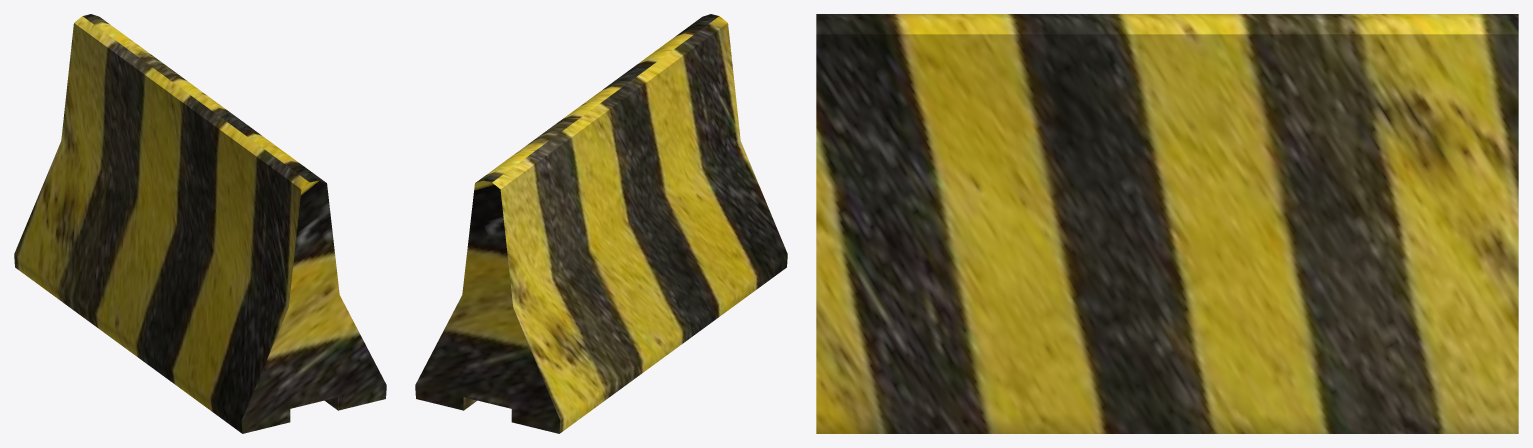
The model's file is road_block-opt.glb.
3 views of the same model, side by side, from view 1: azimuth 30°, elevation 25°; view 2: azimuth 150°, elevation 25°; view 3: azimuth 270°, elevation 25° (orthographic). The views are drawn at different scales.
Parts seen in each view (by area): view 1: Box017_Material_#182_0; view 2: Box017_Material_#182_0; view 3: Box017_Material_#182_0.
Part boxes in pixels (x1=…): Box017_Material_#182_0: x1=14, y1=14, x2=386, y2=433; Box017_Material_#182_0: x1=415, y1=14, x2=787, y2=433; Box017_Material_#182_0: x1=816, y1=14, x2=1518, y2=433.
Bounding box in the file's own units: 1.41 × 2.18 × 3.82.
1 material, 1 textured.
